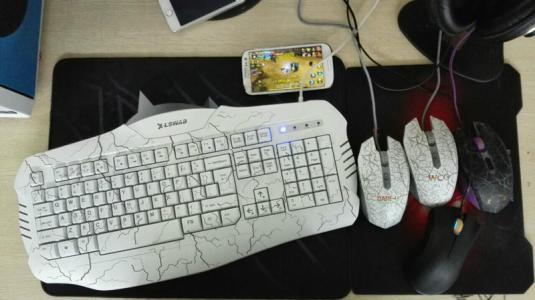keyboard: (14, 101, 363, 290)
mouse: (399, 114, 461, 209), (455, 122, 516, 213), (356, 133, 413, 228)
